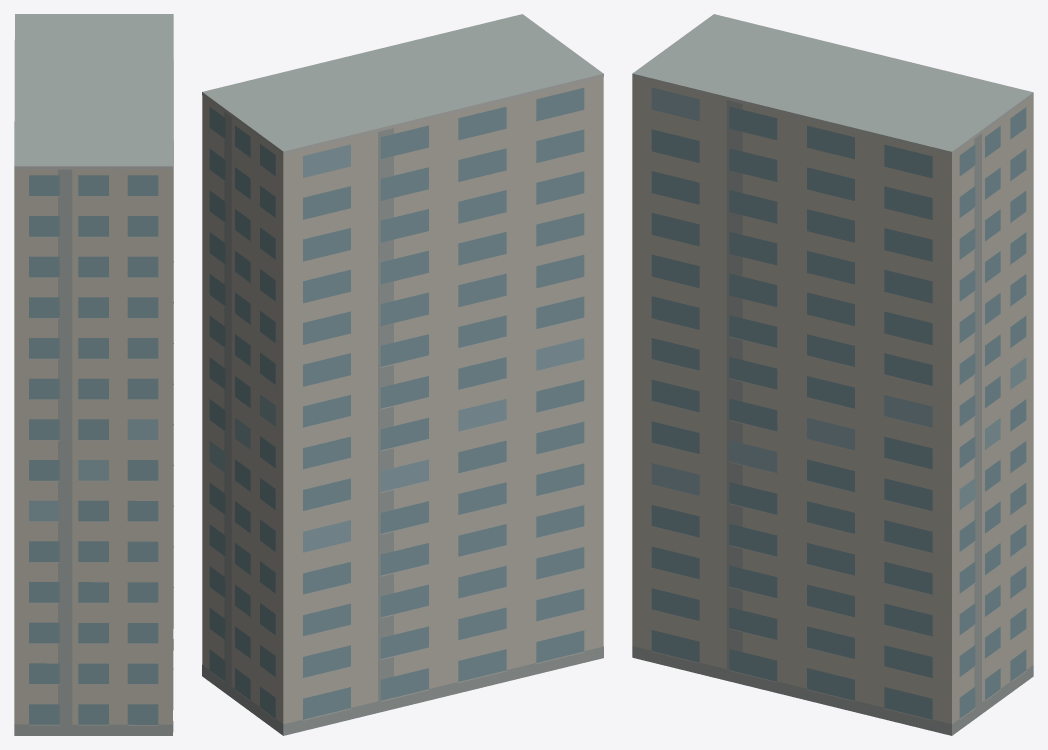
Rendered from residential-f0a0a18c-c972-4d32-8b30-24d147b56848.glb.
3 renders of one model, left to right at view 1: azimuth 30°, elevation 25°; view 2: azimuth 150°, elevation 25°; view 3: azimuth 270°, elevation 25°, orthographic. The views are drawn at different scales.
Visible parts, largest first — view 1: residential-f0a0a18c-c972-4d32-8b30-24d147b56848.tmp; view 2: residential-f0a0a18c-c972-4d32-8b30-24d147b56848.tmp; view 3: residential-f0a0a18c-c972-4d32-8b30-24d147b56848.tmp.
Boxes of the visible parts, <box> form: residential-f0a0a18c-c972-4d32-8b30-24d147b56848.tmp: <box>14,14,173,735</box>; residential-f0a0a18c-c972-4d32-8b30-24d147b56848.tmp: <box>202,14,603,735</box>; residential-f0a0a18c-c972-4d32-8b30-24d147b56848.tmp: <box>632,14,1033,735</box>.
Bounding box in the file's own units: 21.26 × 42 × 26.16.
